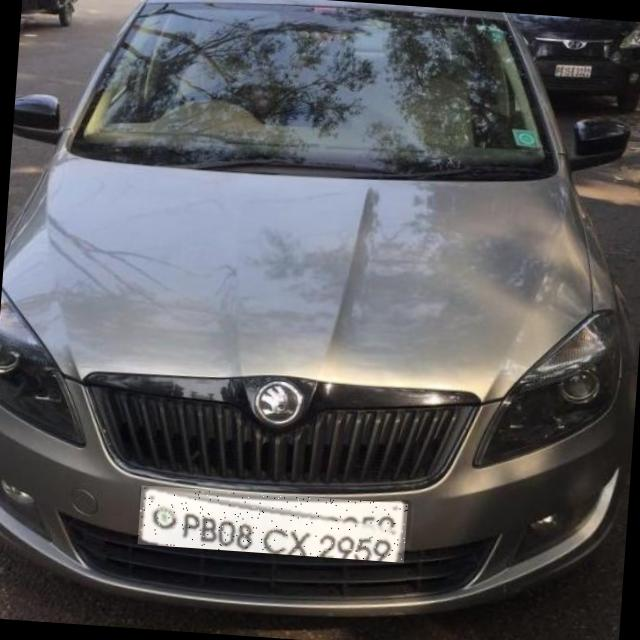Plate: (138, 486, 408, 563)
